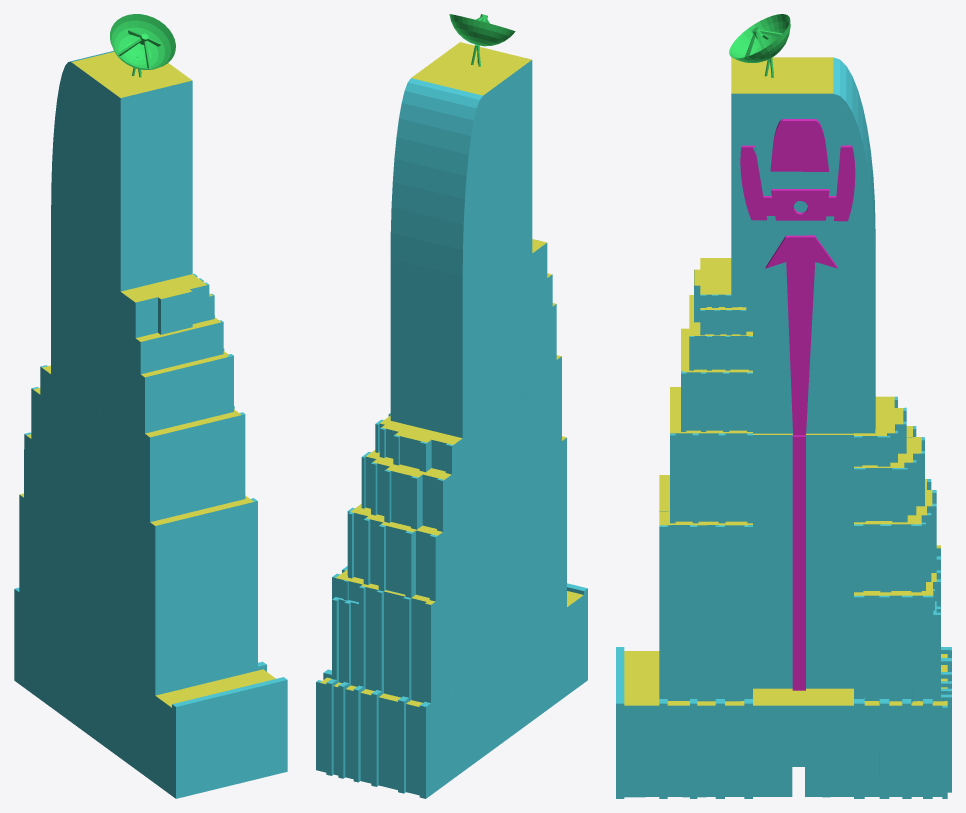
Rendered from BuildingB-transformed.glb.
3 renders of one model, left to right at view 1: azimuth 30°, elevation 25°; view 2: azimuth 150°, elevation 25°; view 3: azimuth 270°, elevation 25°, orthographic. The views are drawn at different scales.
Visible parts, largest first — view 1: Cylinder; view 2: Cylinder; view 3: Cylinder.
Boxes of the visible parts, box(x1,y1,x2,y2) form: Cylinder: box(14, 14, 287, 798); Cylinder: box(316, 14, 587, 798); Cylinder: box(616, 14, 951, 798).
Size of the model in its own units: 62.02 by 379 by 156.
